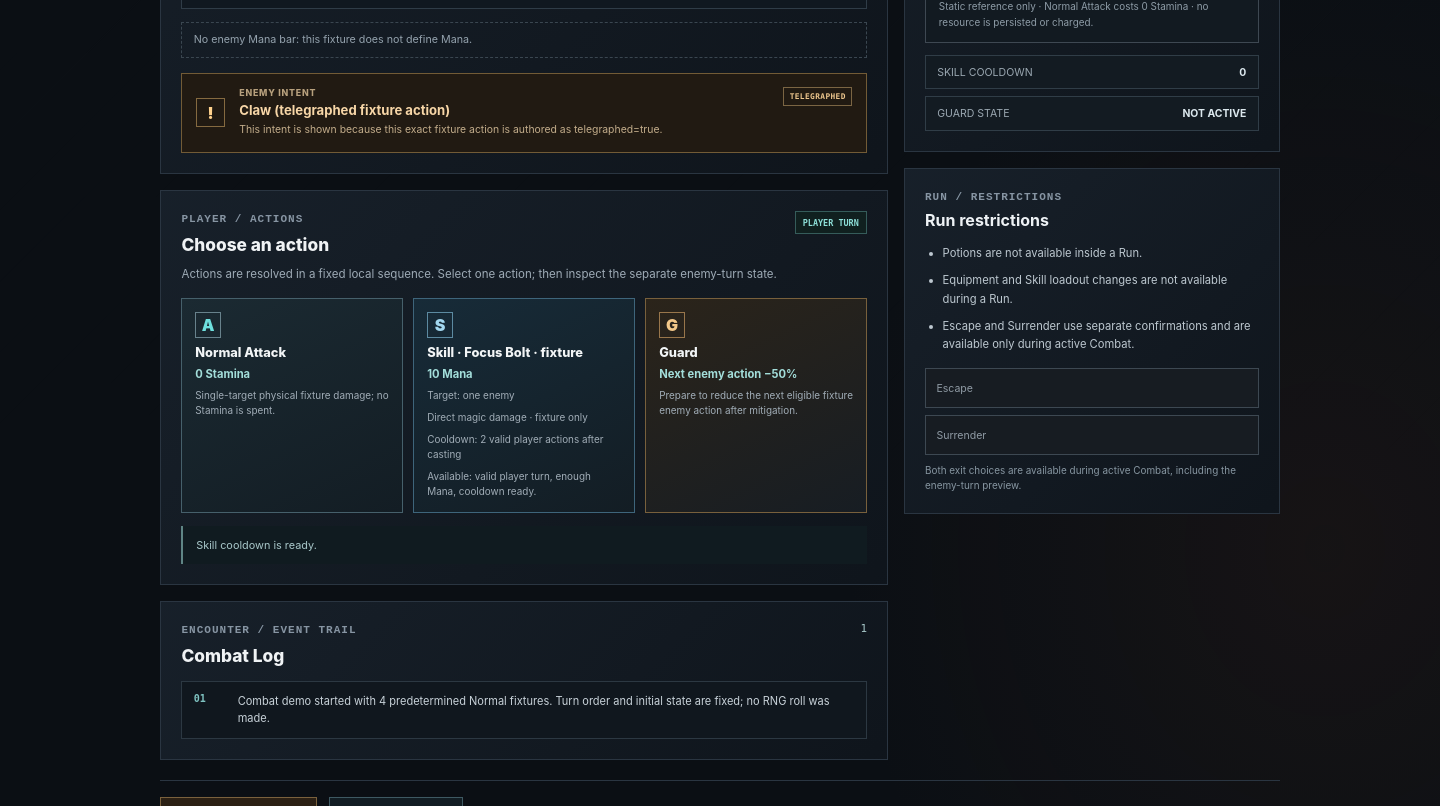
Test case: P1-UI-005 Combat interaction demo › Guard reduces the next eligible enemy action after mitigation
(page scrolled)
Click the button with test id "combat-action-guard".
click(756, 406)  # box [645,298,867,513]
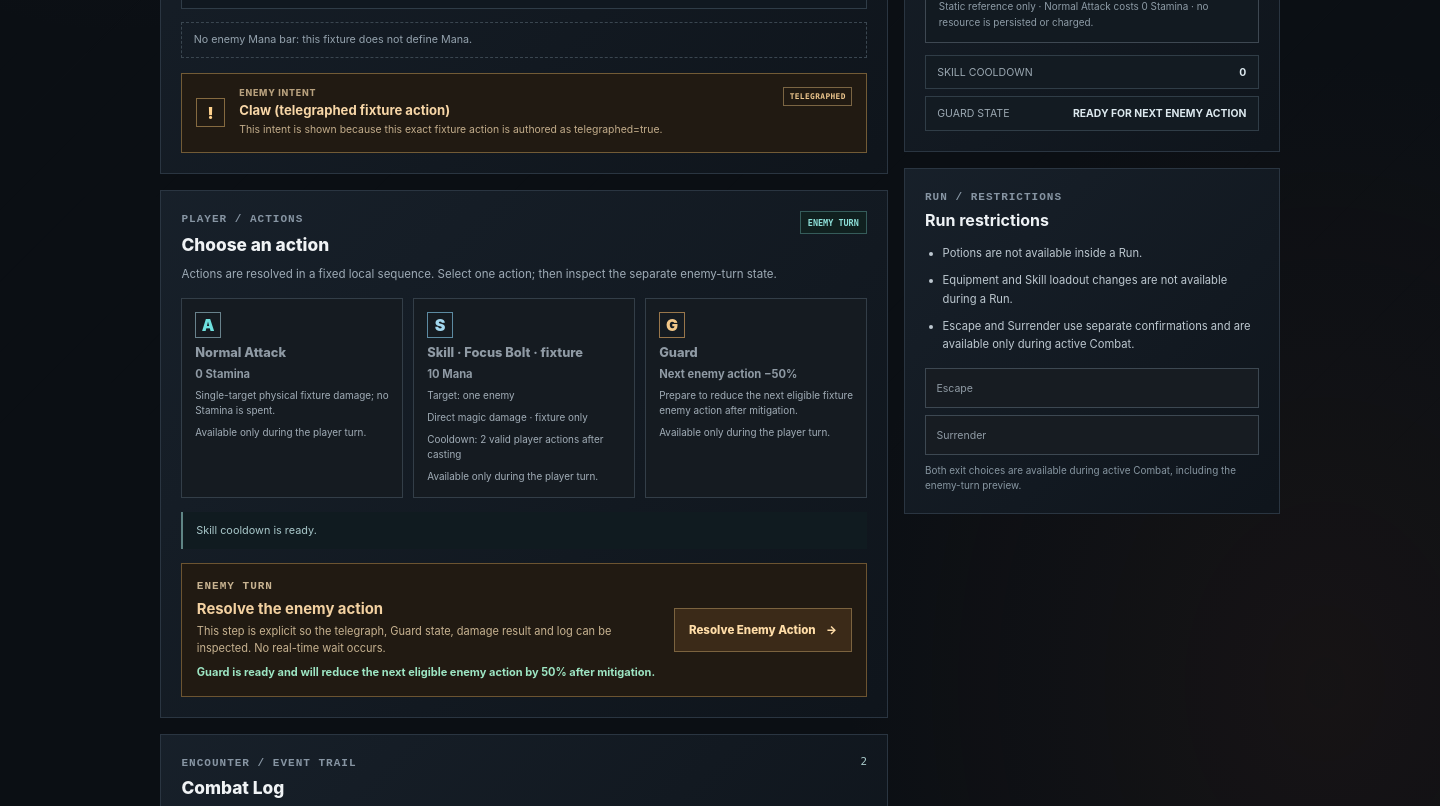
Now the text "Guard is ready and will reduce the next eligible enemy action by 50%" is shown, box [197,665,655,679]
Click the button with test id "combat-resolve-enemy".
click(763, 630)  # box [674,608,852,652]
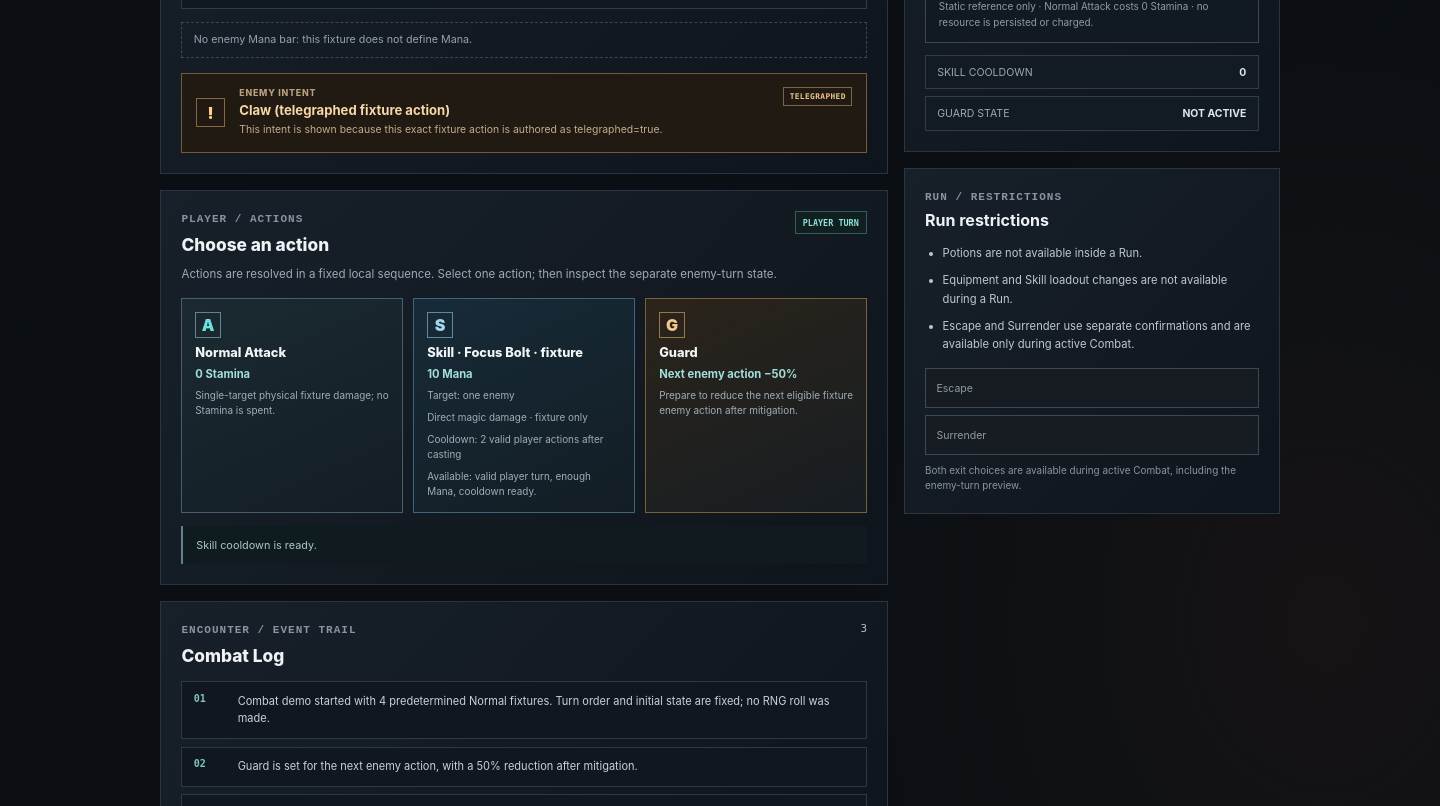
Now the text "NOT ACTIVE" is shown, box [1182,107,1246,120]
